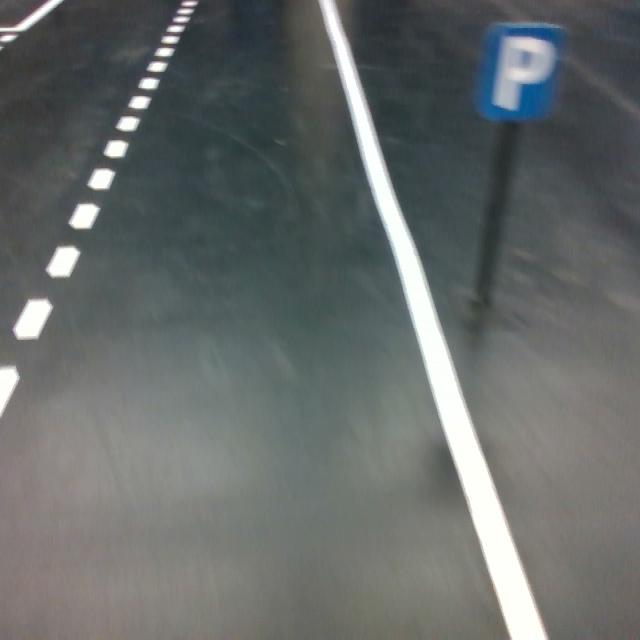parking-sign: (473, 20, 573, 123)
